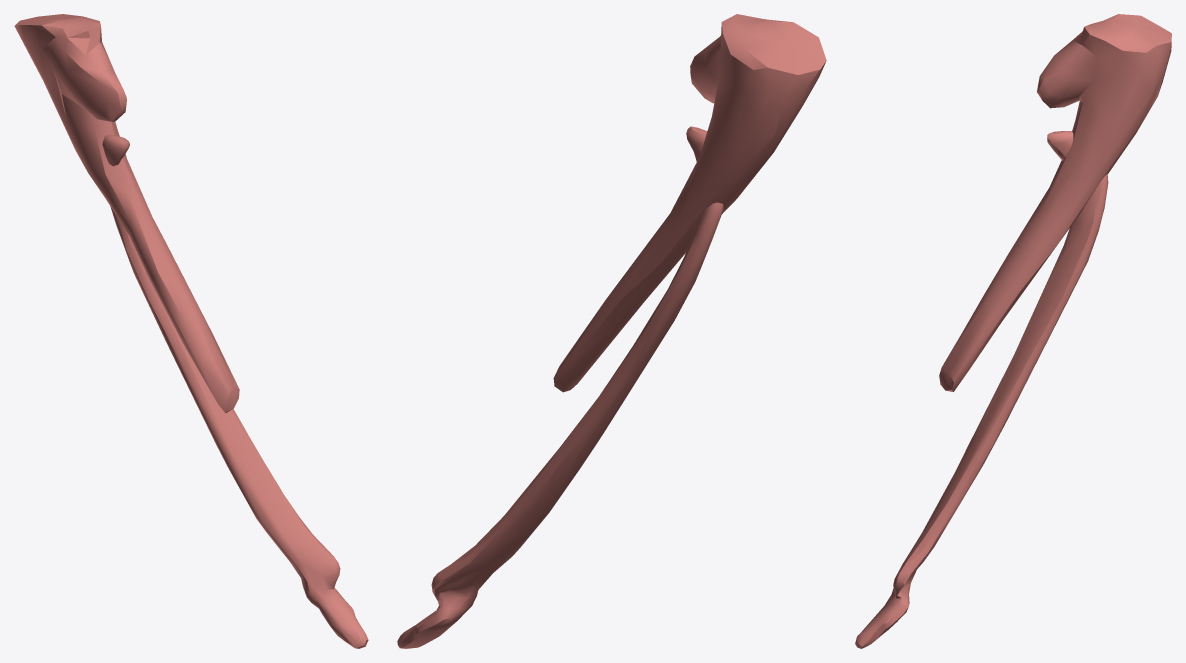
Rendered from fma39661_mm1946.glb.
3 views of the same model, side by side, from view 1: azimuth 30°, elevation 25°; view 2: azimuth 210°, elevation 25°; view 3: azimuth 270°, elevation 25° (orthographic). The views are drawn at different scales.
Visible parts, largest first — view 1: FMA39661_MM1946; view 2: FMA39661_MM1946; view 3: FMA39661_MM1946.
Boxes of the visible parts, x1,y1,x2,y2 form: FMA39661_MM1946: (14, 14, 368, 648); FMA39661_MM1946: (397, 14, 826, 648); FMA39661_MM1946: (855, 14, 1171, 648).
Size of the model in its own units: 0.0155 by 0.042 by 0.022.
